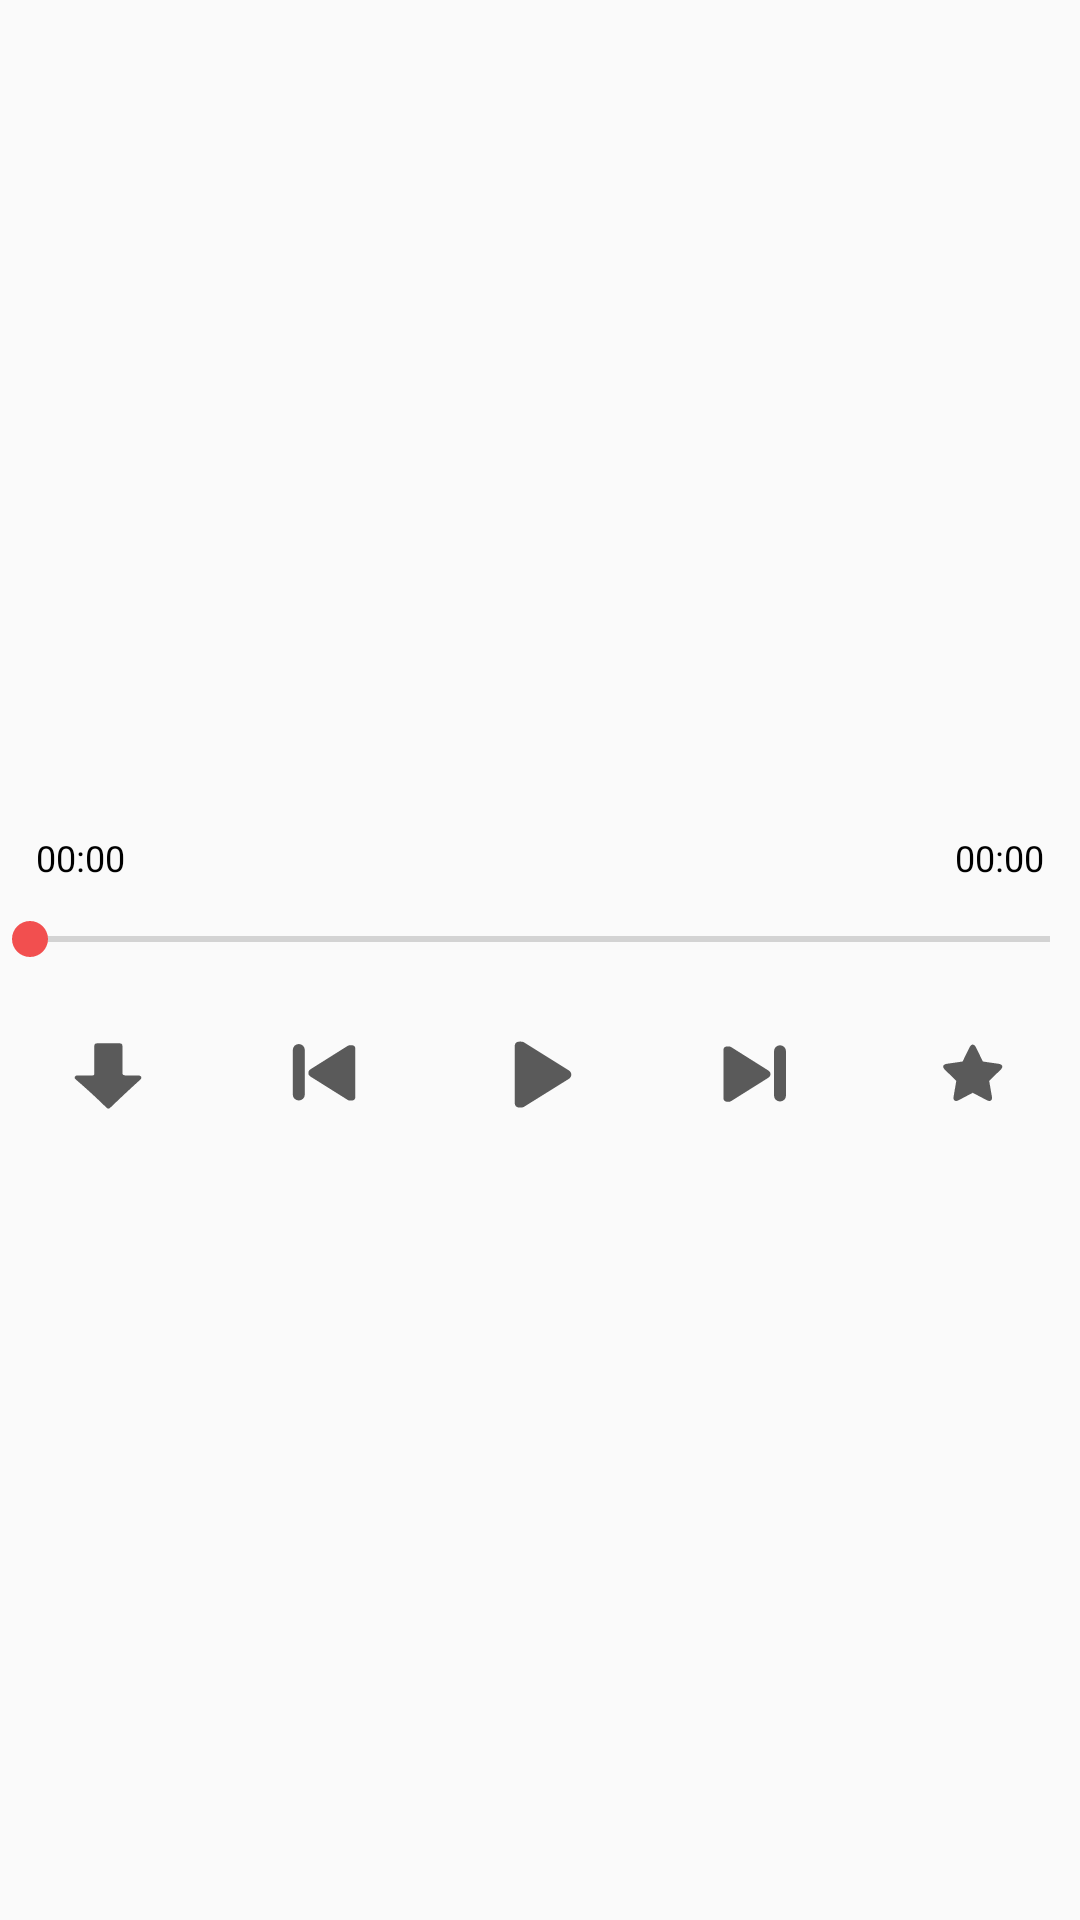

Where to tap for icons on this 1080 × 1920 app screen, as [x,y]:
add to favorites: [973,1072]
downloads: [108,1076]
next mix: [754,1073]
play: [543,1074]
previous mix: [324,1072]
